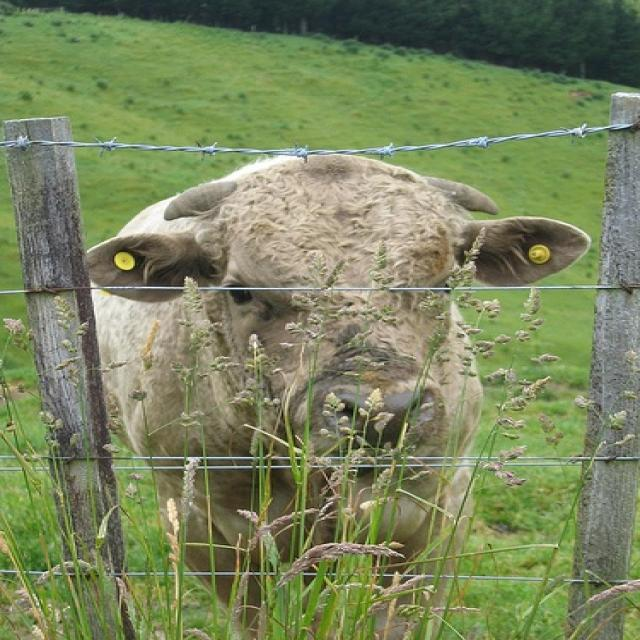cow: (85, 145, 590, 638)
